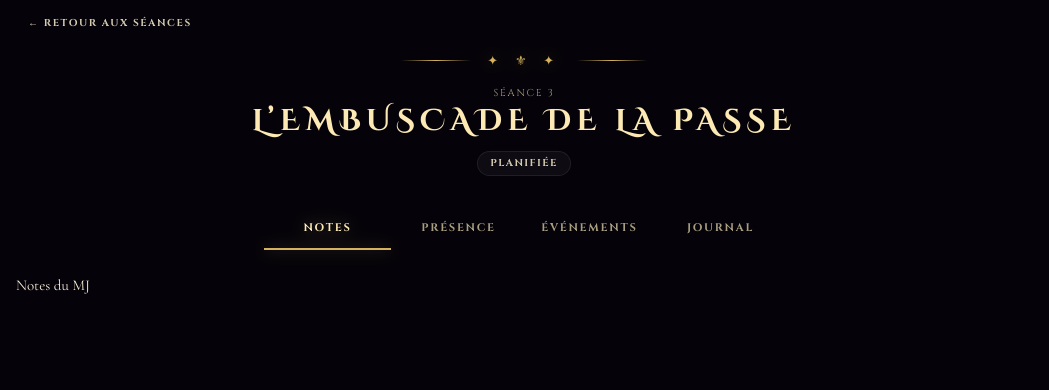
Test: <SessionScreen> — lecture seule (membre non-MJ) › Notes en lecture seule (pas de textarea) + cases présence désactivées
The image size is (1049, 390).
Expected: the text "Notes du MJ" is shown, [16,276,90,294]
// Présence : cases désactivées.
Click the tab "Présence" at (458, 229), box [395,208,522,250]
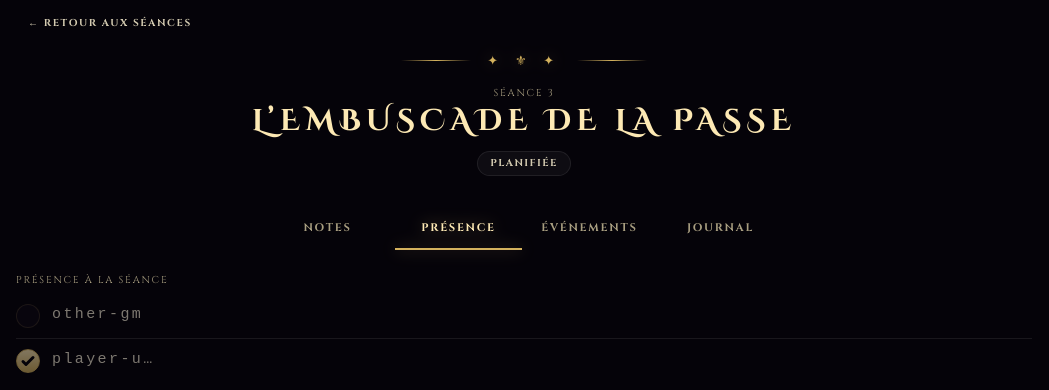
Result: the checkbox labelled "other-gm" is disabled at [16,304,143,328]
Result: the checkbox labelled "player-u…" is disabled at [16,349,155,373]
